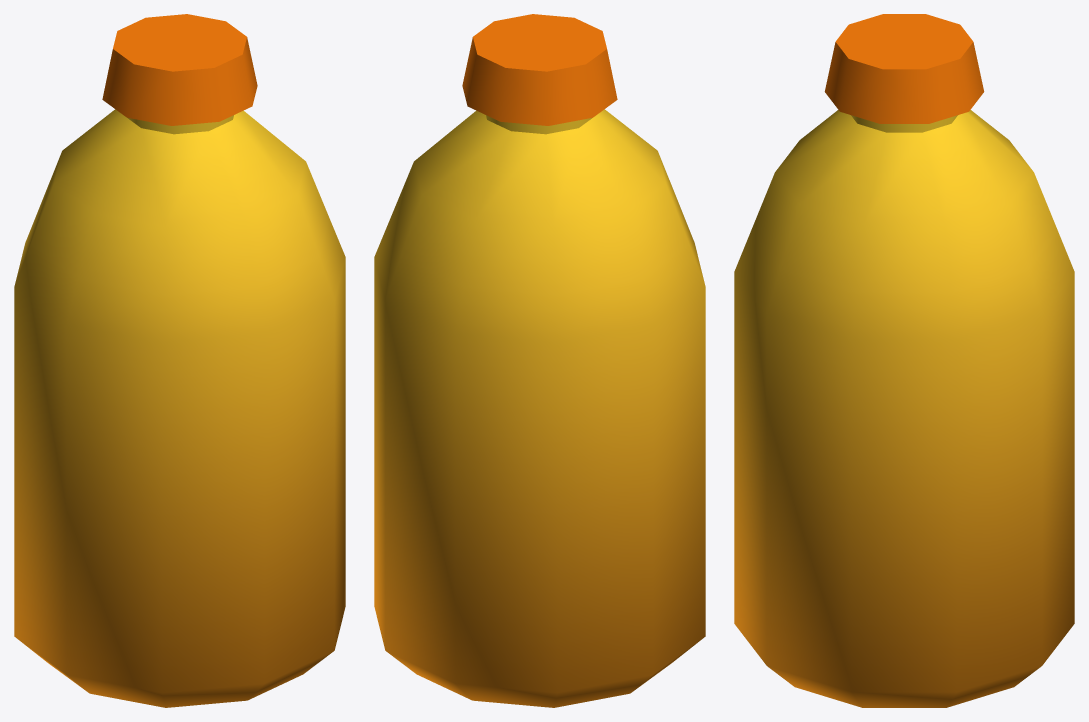
Rendered from bottle_big_orange.fbx.
The picture shows the model from 3 angles, left to right: view 1: azimuth 30°, elevation 25°; view 2: azimuth 150°, elevation 25°; view 3: azimuth 270°, elevation 25°; orthographic projection.
Visible parts, largest first — view 1: bottle_big_orange; view 2: bottle_big_orange; view 3: bottle_big_orange.
Part boxes in pixels (x1,y1,x2,y2): bottle_big_orange: (14,14,345,707); bottle_big_orange: (374,14,705,707); bottle_big_orange: (734,14,1074,707).
Bounding box in the file's own units: 190 × 397 × 200.
